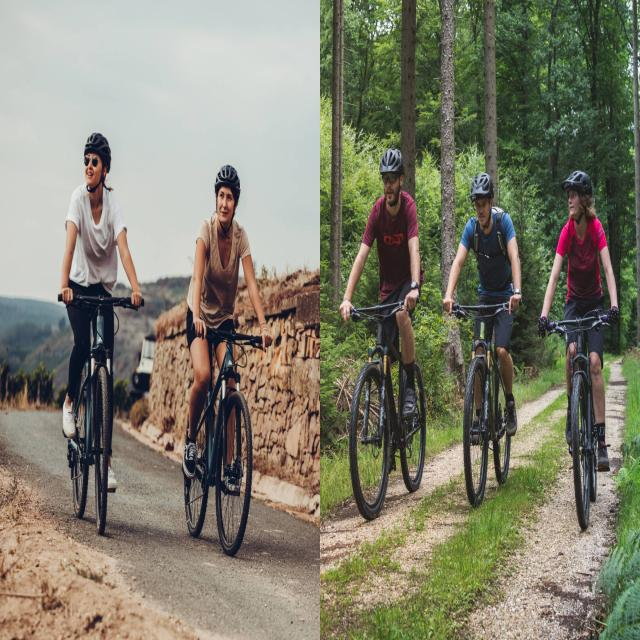bicycle: (182, 164, 271, 556), (59, 133, 144, 533), (340, 149, 426, 520), (539, 171, 619, 529), (442, 173, 521, 507)
